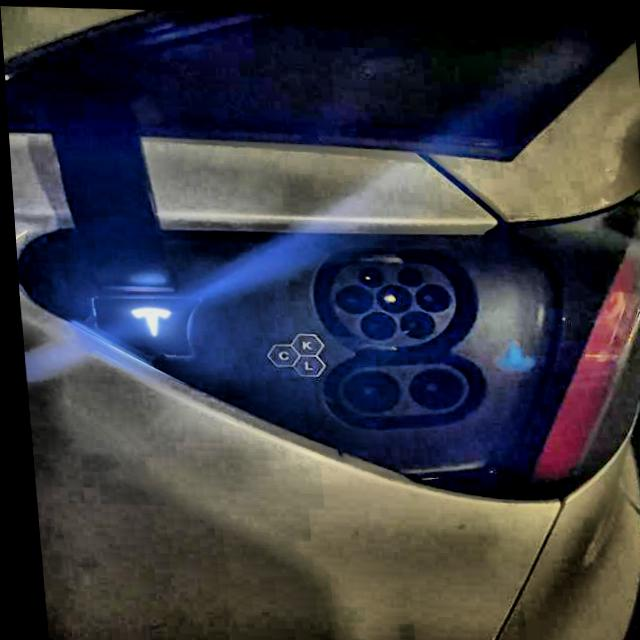inlet: (325, 259, 452, 343)
inlet-above-left: (354, 263, 380, 284)
inlet-above-right: (393, 263, 421, 282)
inlet-below-left: (354, 308, 394, 337)
inlet-below-right: (395, 306, 430, 335)
inlet-center: (371, 281, 408, 309)
inlet-center-left: (331, 281, 370, 311)
inlet-center-right: (410, 280, 447, 309)
